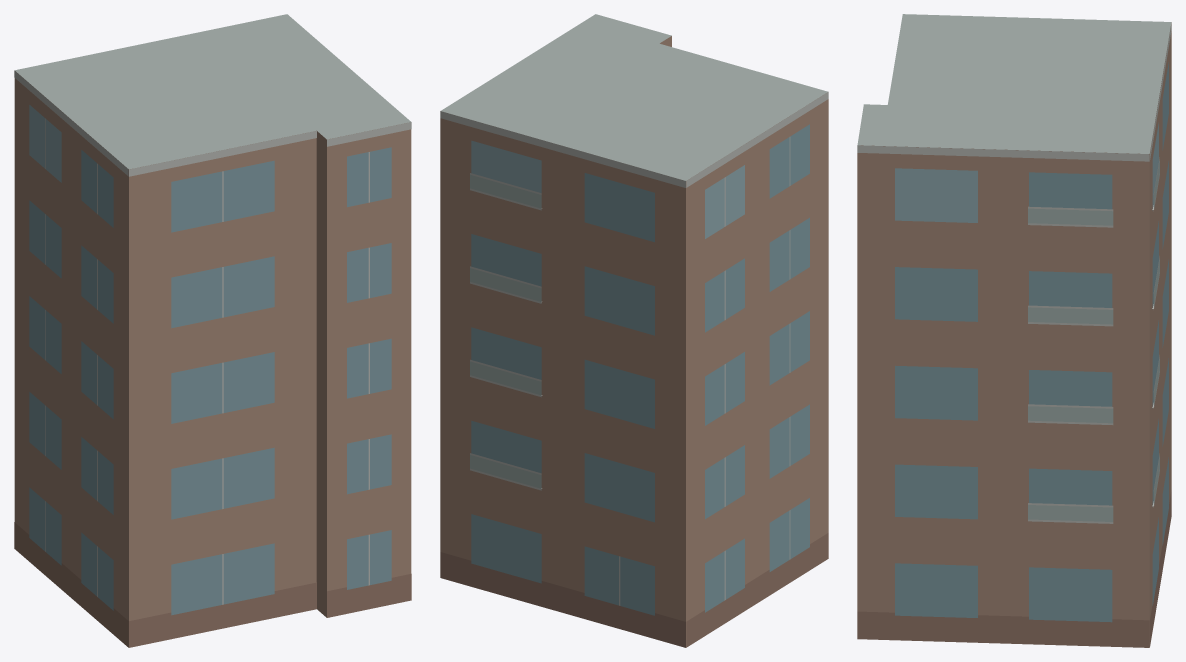
Rendered from survey-upis-32658769.glb.
3 views of the same model, side by side, from view 1: azimuth 30°, elevation 25°; view 2: azimuth 150°, elevation 25°; view 3: azimuth 270°, elevation 25° (orthographic). The views are drawn at different scales.
Parts seen in each view (by area): view 1: survey-upis-32658769.tmp; view 2: survey-upis-32658769.tmp; view 3: survey-upis-32658769.tmp.
Boxes of the visible parts, x1,y1,x2,y2 form: survey-upis-32658769.tmp: (14,14,411,647); survey-upis-32658769.tmp: (440,14,828,647); survey-upis-32658769.tmp: (857,14,1171,647).
Size of the model in its own units: 9.68 by 15.9 by 9.18.
